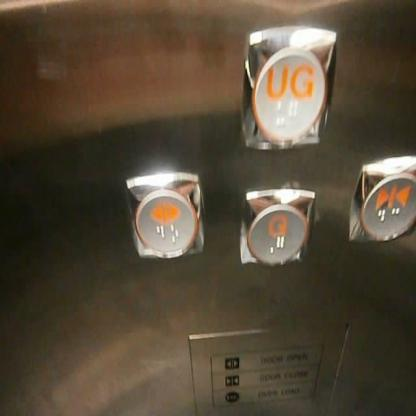G: (238, 186, 316, 270)
UG: (238, 20, 337, 150)
close: (346, 155, 416, 242), (223, 374, 240, 386)
open: (124, 171, 204, 259), (223, 355, 240, 370)
